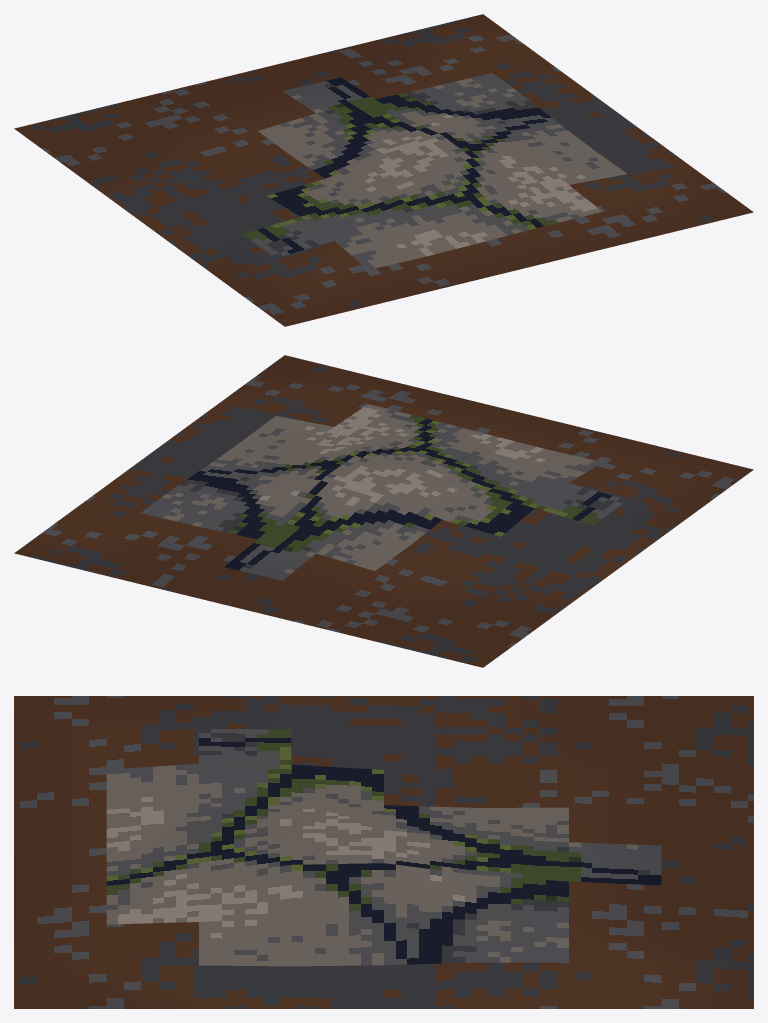
File: cave.floor.glb
3 views of the same model, one above another, from view 1: azimuth 30°, elevation 25°; view 2: azimuth 150°, elevation 25°; view 3: azimuth 270°, elevation 25° (orthographic). The views are drawn at different scales.
Parts seen in each view (by area): view 1: kit_shell_floor; view 2: kit_shell_floor; view 3: kit_shell_floor.
Part boxes in pixels (box(x1,y1,x2,y2)): kit_shell_floor: box(14, 14, 753, 326); kit_shell_floor: box(14, 355, 753, 667); kit_shell_floor: box(14, 696, 753, 1008).
Bounding box in the file's own units: 4 × 0.1694 × 4.
2 materials, 2 textured.
